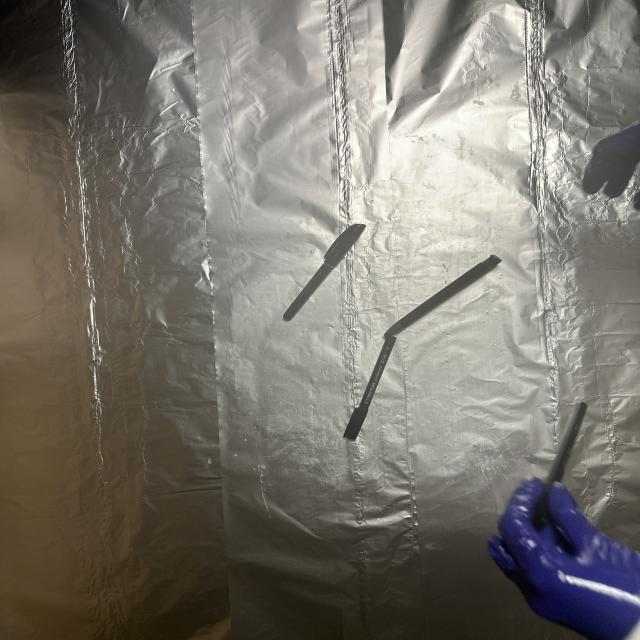gloves_contaminated: (488, 478, 640, 640)
